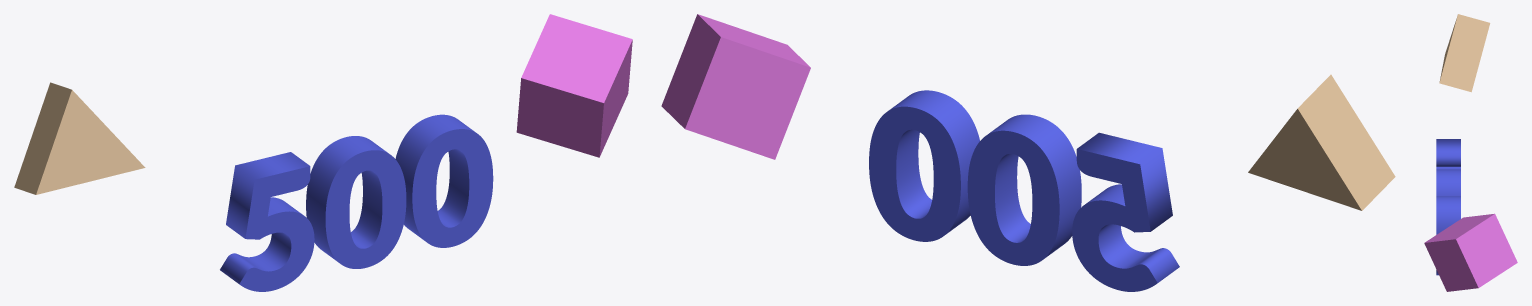
File: 500-DndU9wv2.gltf
The picture shows the model from 3 angles, left to right: view 1: azimuth 30°, elevation 25°; view 2: azimuth 150°, elevation 25°; view 3: azimuth 270°, elevation 25°; orthographic projection. The views are drawn at different scales.
Parts seen in each view (by area): view 1: Text, Cube, Plane; view 2: Text, Cube, Plane; view 3: Cube, Plane, Text.
Part boxes in pixels (<box>): Text: <box>220,114,493,291</box>; Cube: <box>516,14,632,157</box>; Plane: <box>14,82,145,194</box>; Text: <box>869,90,1179,291</box>; Cube: <box>661,14,810,159</box>; Plane: <box>1248,74,1395,210</box>; Cube: <box>1424,213,1517,291</box>; Plane: <box>1439,14,1490,92</box>; Text: <box>1436,139,1460,275</box>.
Size of the model in its own units: 3.66 by 1.32 by 0.7617.
